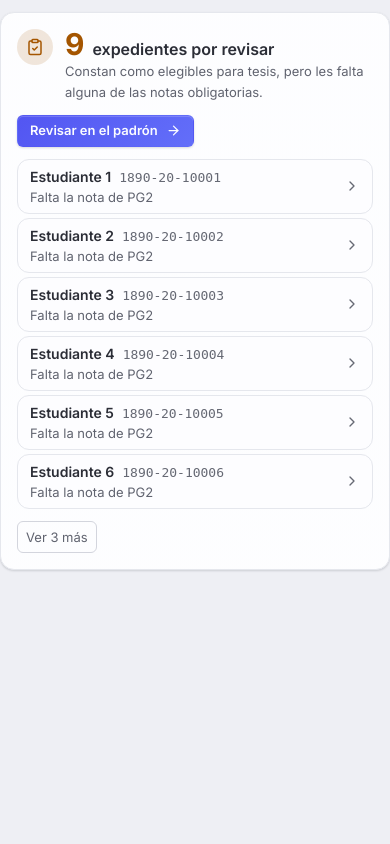
Test: EligibilityAudit — trabajo pendiente, no avería › con muchos, pliega la cola y el control de desplegar sobrevive al uso
The width and height of the screenshot is (390, 844).
Expected: the number of list items is 6, [17,159,373,214]; [17,218,373,273]; [17,277,373,332]; [17,336,373,391]; [17,395,373,450]; [17,454,373,509]
Click the button "Ver 3 más" at (57, 537), box [17,521,97,553]
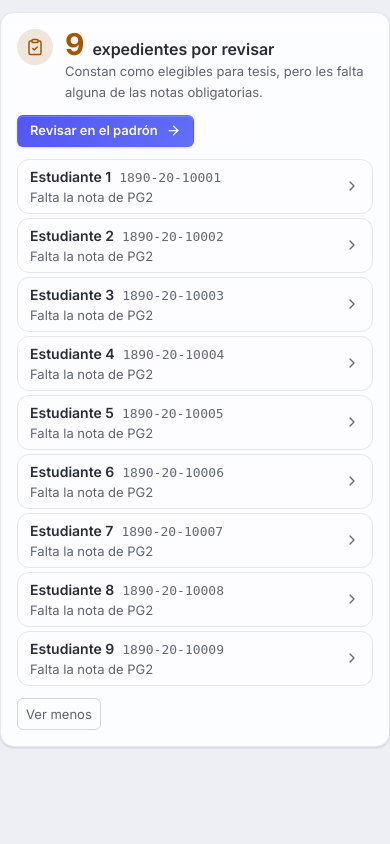
Expected: the number of list items is 9
Expected: the button "Ver menos" is expanded, [17,698,101,730]
